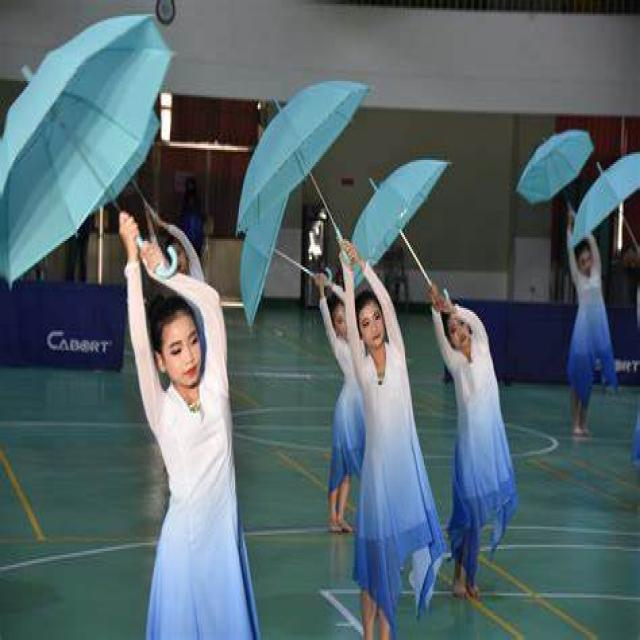stand: (118, 217, 250, 640), (356, 282, 420, 640), (441, 306, 509, 596), (326, 286, 364, 537), (572, 230, 612, 456)
